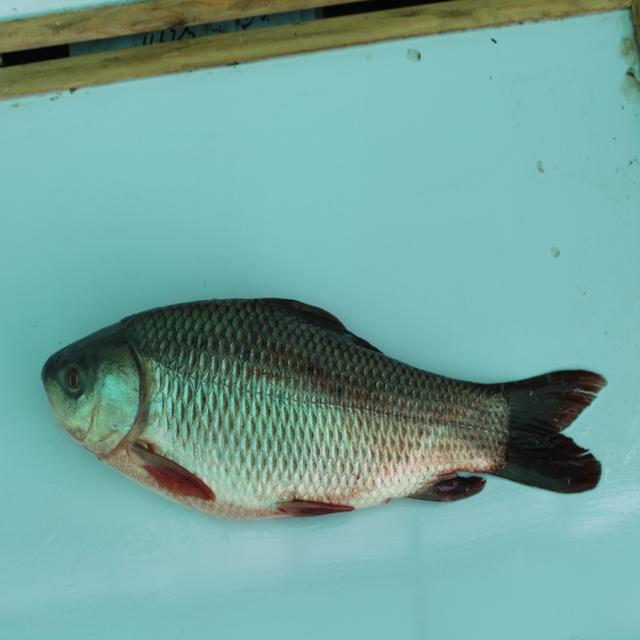Rohu: (28, 291, 622, 527)
